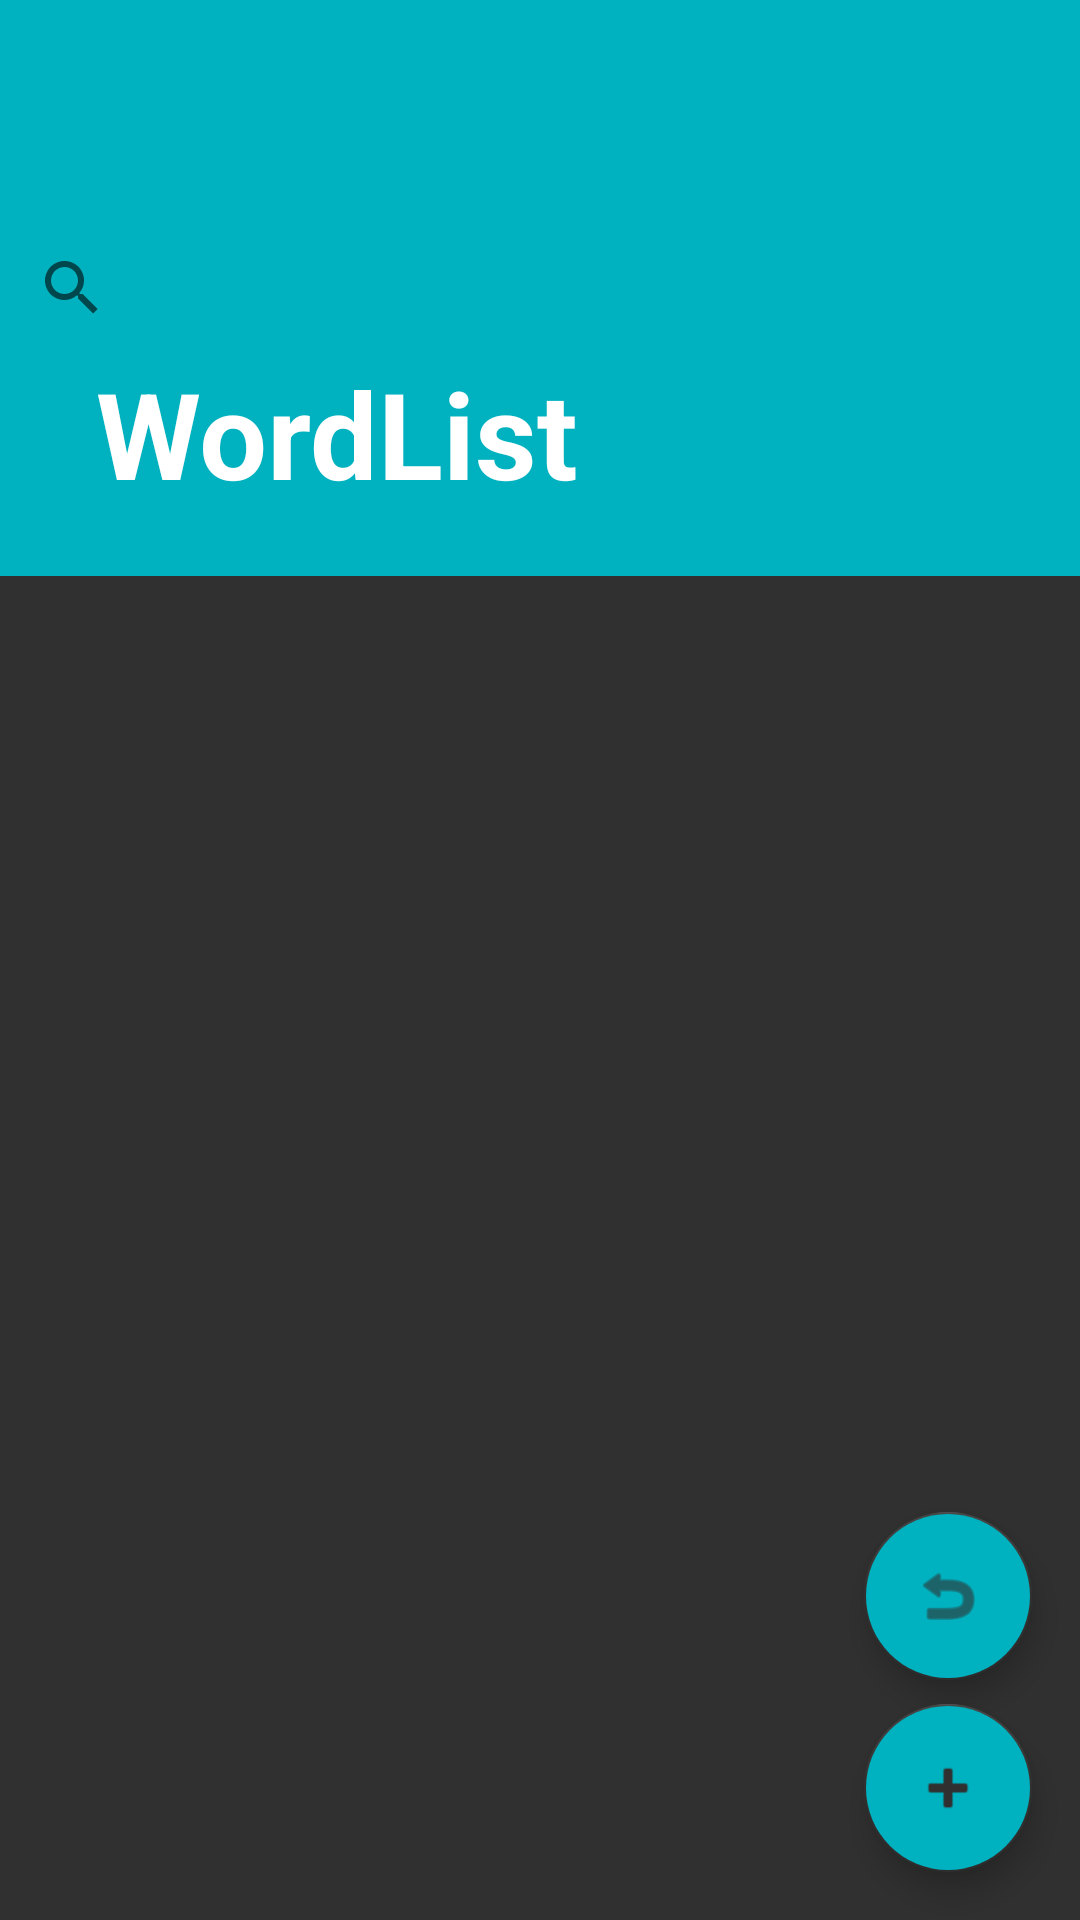

Point at icon controls on the screen. Image size 1080px×1920px, points as (x,y).
Add Entry: (948,1787)
Undo Delete: (948,1595)
